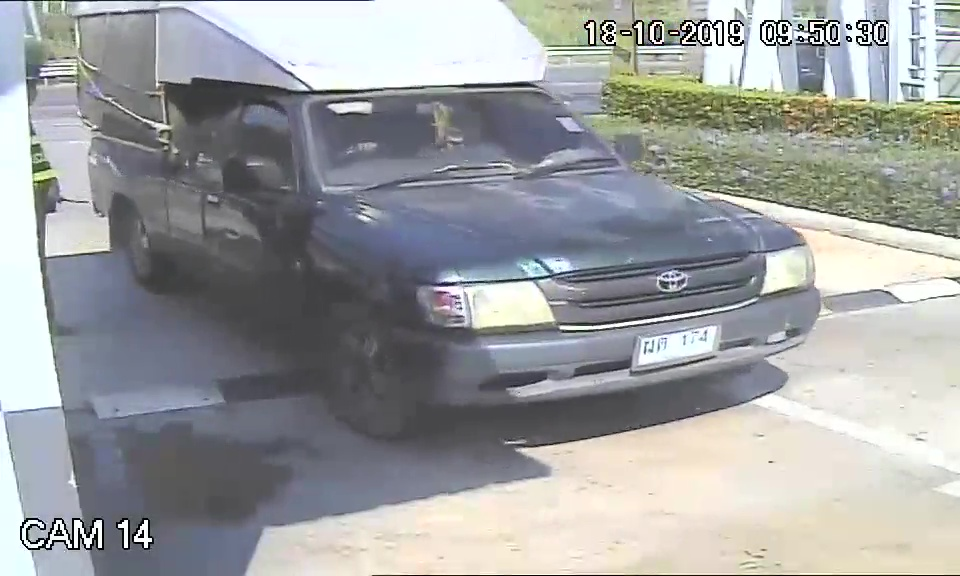pickup: (86, 72, 827, 444)
